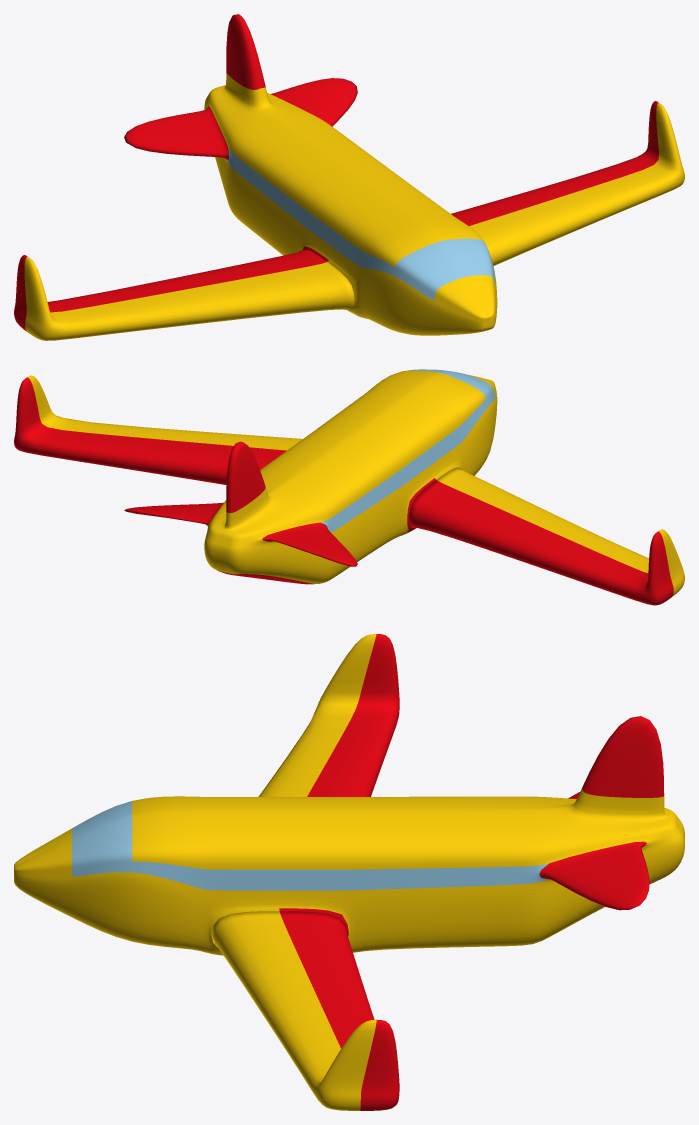
3 views of the same model, one above another, from view 1: azimuth 30°, elevation 25°; view 2: azimuth 150°, elevation 25°; view 3: azimuth 270°, elevation 25° (orthographic). The views are drawn at different scales.
Visible parts, largest first — view 1: Cube.024, Cube.011, Cube.010; view 2: Cube.024, Cube.011, Cube.010; view 3: Cube.024, Cube.010, Cube.011.
Part boxes in pixels (<box>): Cube.024: <box>124,14,497,335</box>; Cube.011: <box>14,250,354,340</box>; Cube.010: <box>451,101,684,265</box>; Cube.024: <box>124,369,497,584</box>; Cube.011: <box>409,467,684,605</box>; Cube.010: <box>14,375,302,484</box>; Cube.024: <box>14,716,684,955</box>; Cube.010: <box>211,911,399,1110</box>; Cube.011: <box>258,634,399,796</box>.
Bounding box in the file's own units: 2147 × 554 × 1535.
